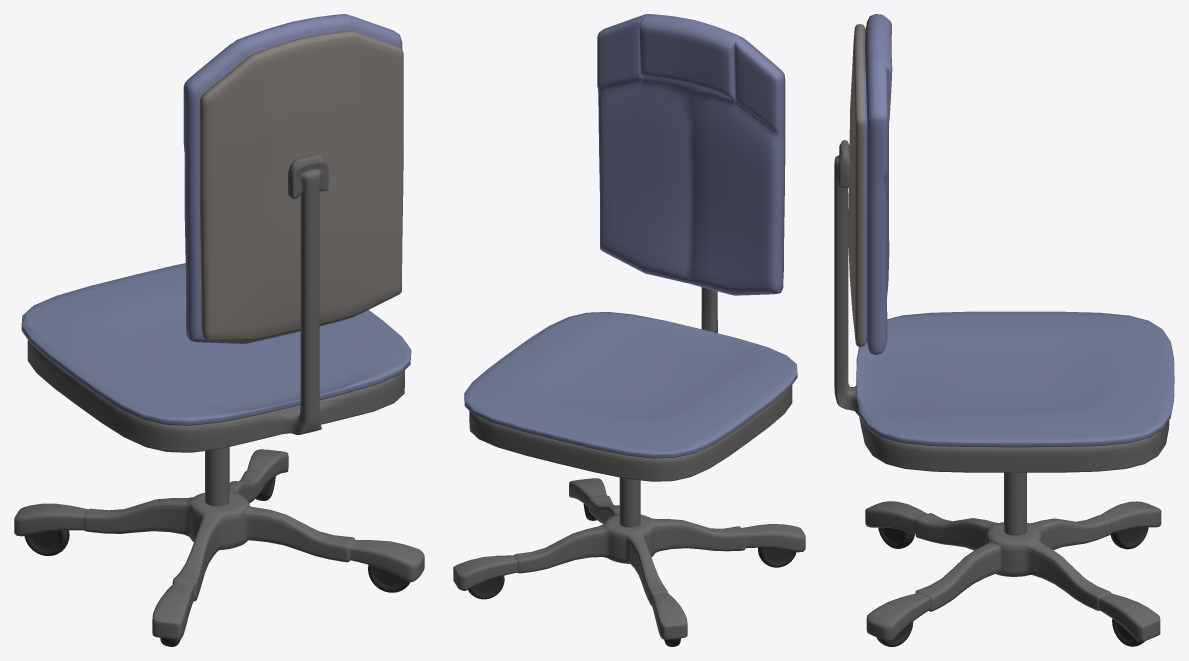
File: Cadeira.fbx
3 views of the same model, side by side, from view 1: azimuth 30°, elevation 25°; view 2: azimuth 150°, elevation 25°; view 3: azimuth 270°, elevation 25° (orthographic). The views are drawn at different scales.
Visible parts, largest first — view 1: Cube.030; view 2: Cube.030; view 3: Cube.030.
Boxes of the visible parts, <box> form: Cube.030: <box>14,14,424,646</box>; Cube.030: <box>453,14,805,646</box>; Cube.030: <box>834,14,1174,646</box>.
Size of the model in its own units: 102 by 206 by 112.
